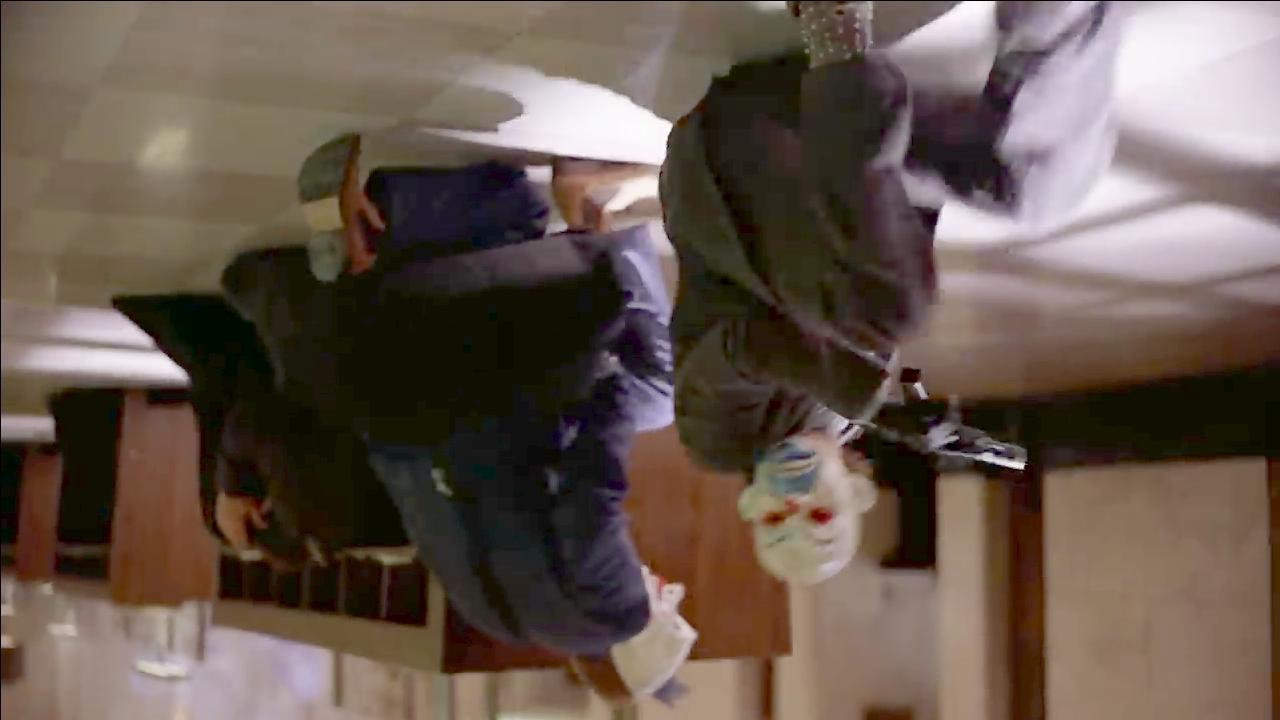gun: (896, 368, 1030, 481)
